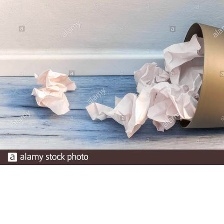book: (83, 33, 207, 140), (25, 62, 73, 116)
